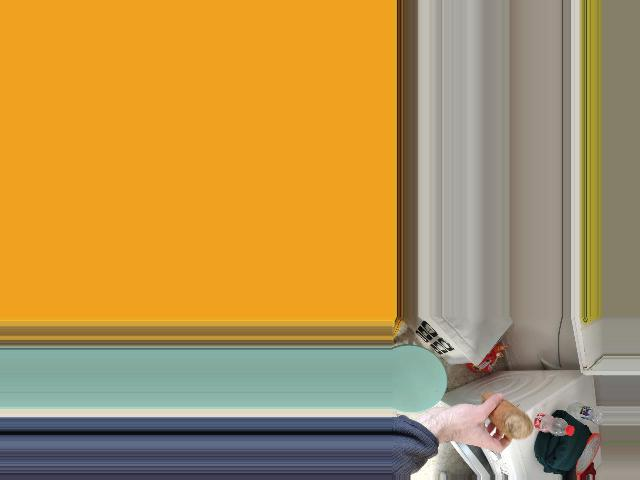sweet_potato: (483, 390, 533, 435)
